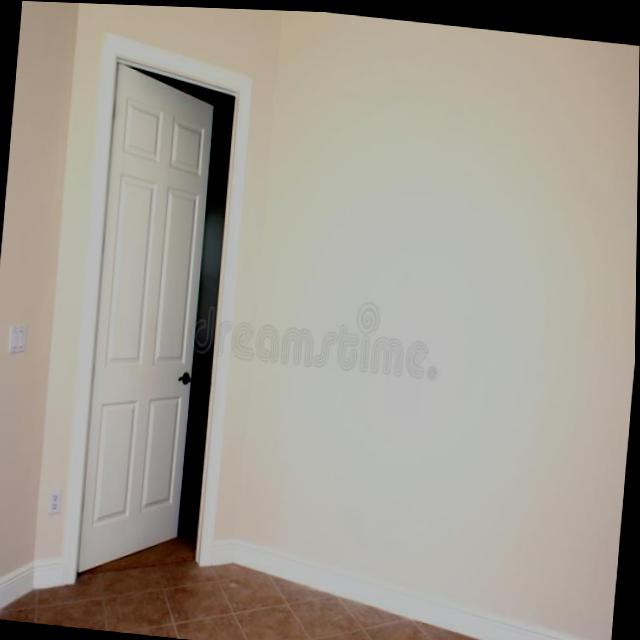semi-open: (54, 21, 254, 611)
